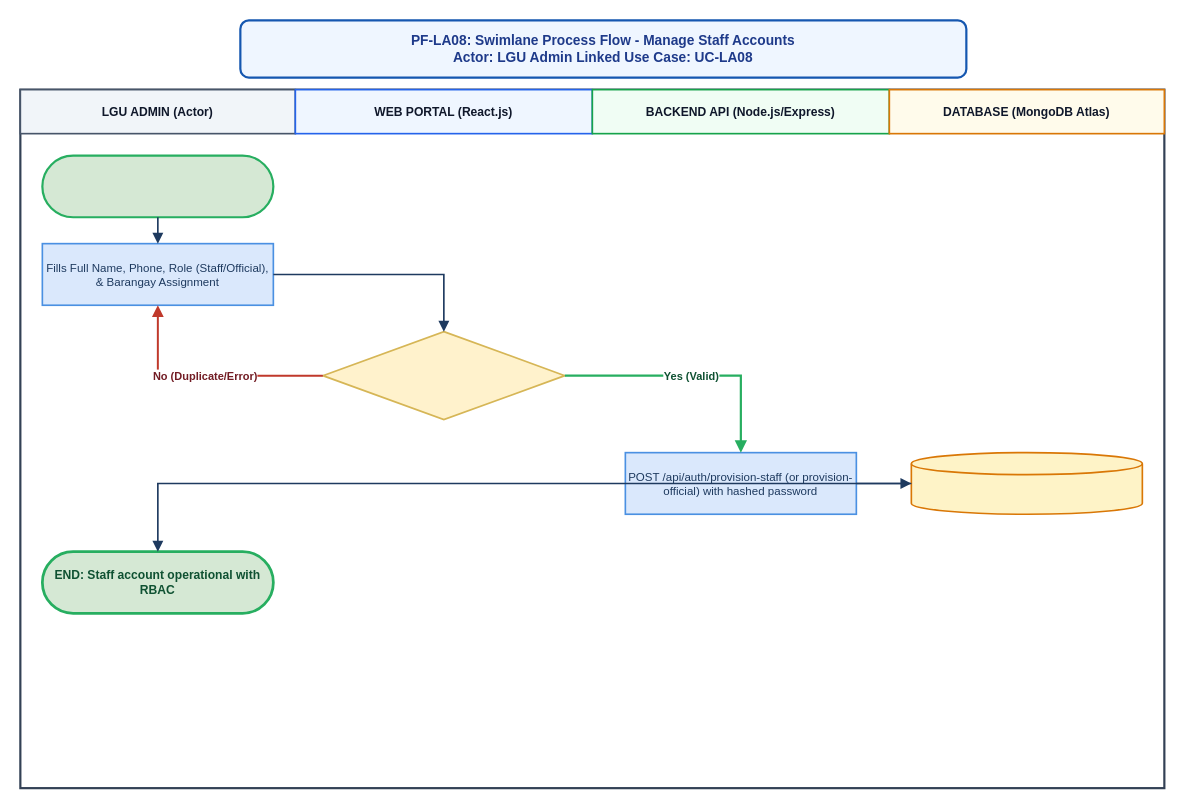
This 1184x807 diagram has some shape labels left out. Here are the shapes that lost their labels. From the top down, the box of each, then its label:
(41, 154, 274, 218): START: Opens Provision Accounts
(322, 330, 565, 420): Account data valid & phone not registered?
(910, 451, 1143, 515): MongoDB: Creates User record & logs event in System AuditLog
